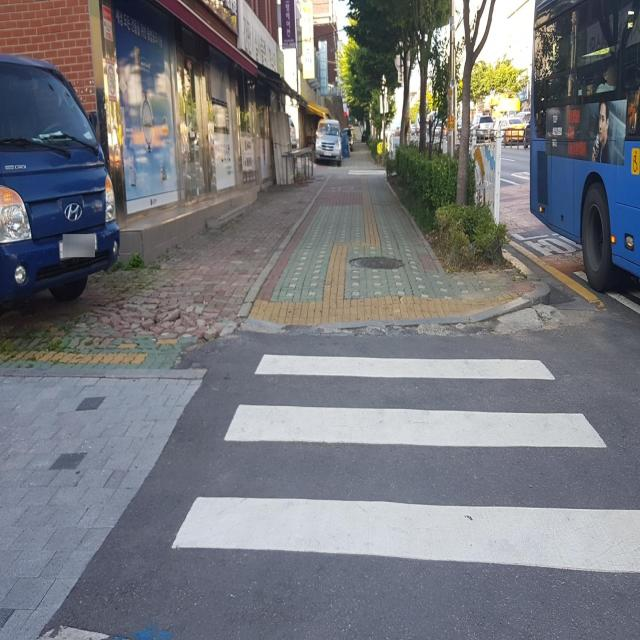횡단보도: (168, 350, 640, 573)
